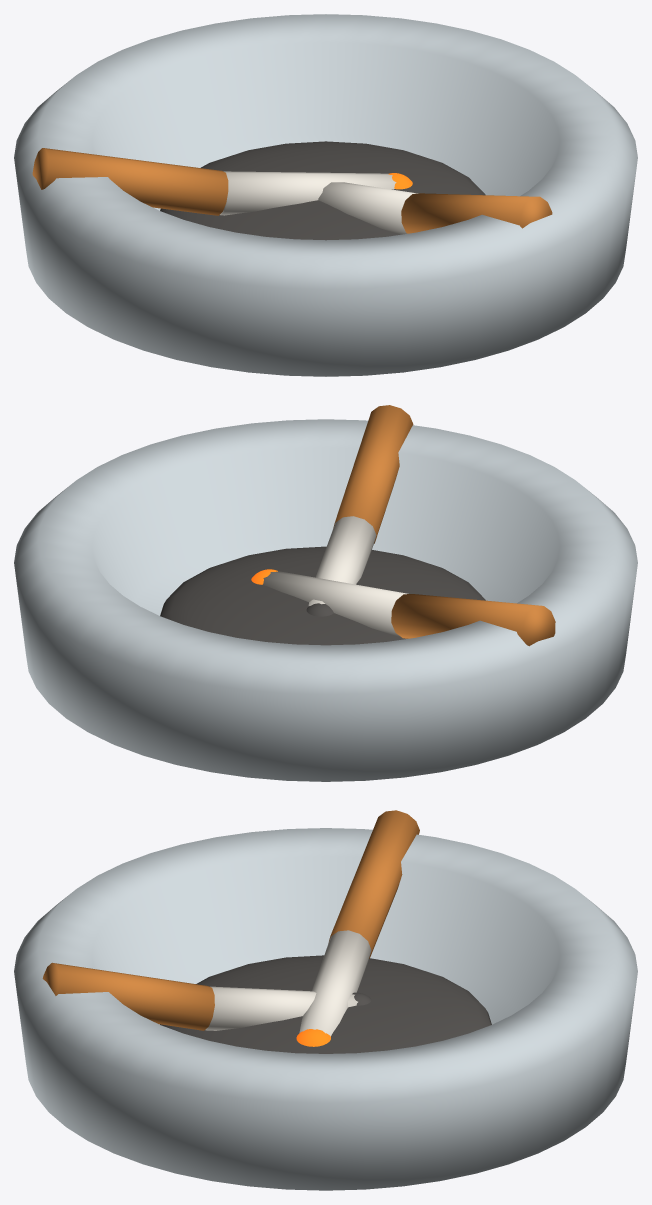
Rendered from cut_glass_ashtray.glb.
The picture shows the model from 3 angles, top to bottom: view 1: azimuth 30°, elevation 25°; view 2: azimuth 150°, elevation 25°; view 3: azimuth 270°, elevation 25°; orthographic projection.
Parts seen in each view (by area): view 1: AshtrayGlass, AshMound, CigFilter_0, CigPaper_0, CigFilter_1, CigPaper_1; view 2: AshtrayGlass, AshMound, CigFilter_0, CigFilter_1, CigPaper_0, CigPaper_1; view 3: AshtrayGlass, AshMound, CigFilter_1, CigFilter_0, CigPaper_0, CigPaper_1.
Boxes of the visible parts, left/top/right/bottom form: AshtrayGlass: left=14, top=14, right=637, bottom=376; AshMound: left=160, top=141, right=485, bottom=240; CigFilter_0: left=32, top=148, right=228, bottom=215; CigPaper_0: left=220, top=171, right=396, bottom=215; CigFilter_1: left=401, top=193, right=552, bottom=233; CigPaper_1: left=318, top=182, right=417, bottom=234; AshtrayGlass: left=14, top=419, right=637, bottom=781; AshMound: left=160, top=546, right=485, bottom=645; CigFilter_0: left=391, top=594, right=555, bottom=646; CigFilter_1: left=333, top=405, right=413, bottom=543; CigPaper_0: left=262, top=571, right=408, bottom=637; CigPaper_1: left=308, top=516, right=376, bottom=605; AshtrayGlass: left=14, top=828, right=637, bottom=1190; AshMound: left=160, top=955, right=491, bottom=1053; CigFilter_1: left=42, top=962, right=214, bottom=1030; CigFilter_0: left=329, top=810, right=419, bottom=958; CigPaper_0: left=299, top=930, right=371, bottom=1036; CigPaper_1: left=205, top=986, right=357, bottom=1030.
Size of the model in its own units: 0.104 by 0.0297 by 0.104.
